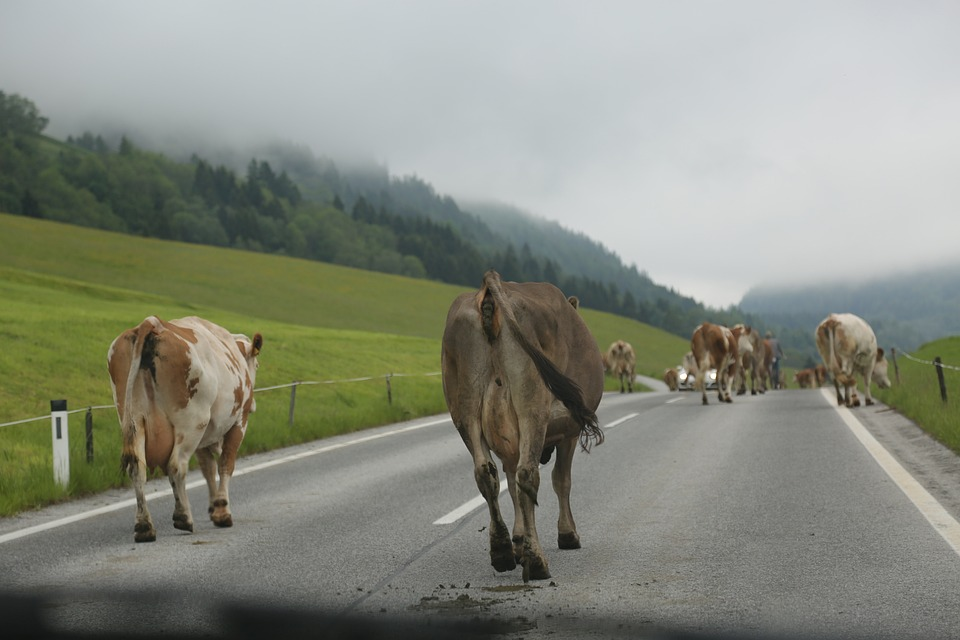inek: (442, 275, 610, 576), (101, 301, 296, 534), (814, 307, 905, 413), (689, 315, 763, 412), (606, 333, 650, 405)
